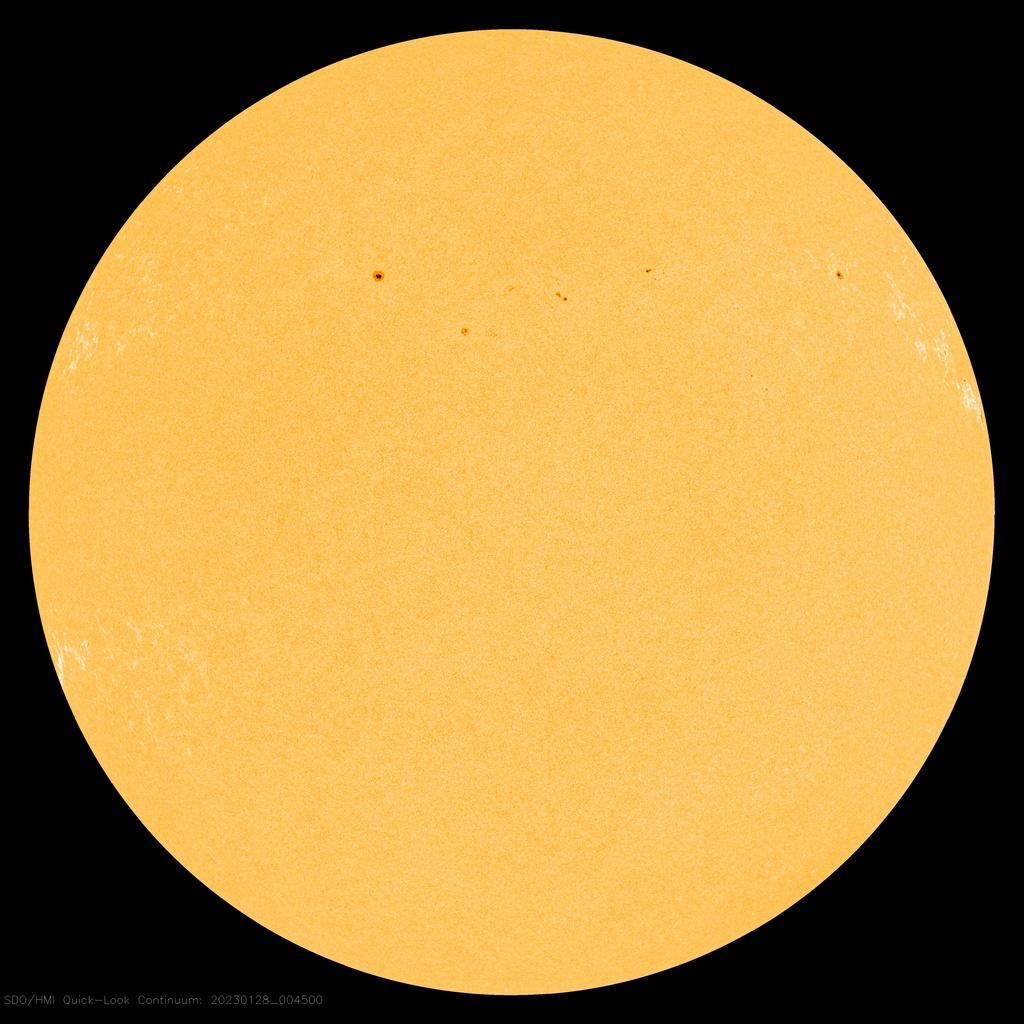flare: (444, 260, 664, 347), (364, 258, 395, 294), (825, 260, 851, 285)
